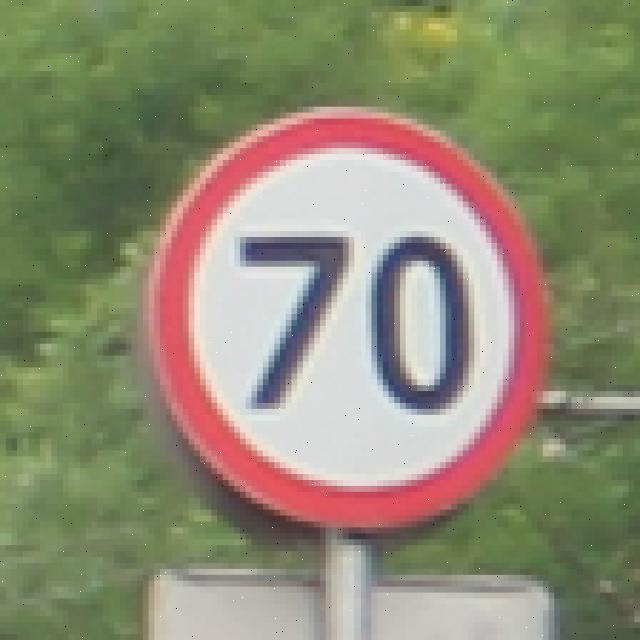speed limit 70: (146, 104, 549, 532)
